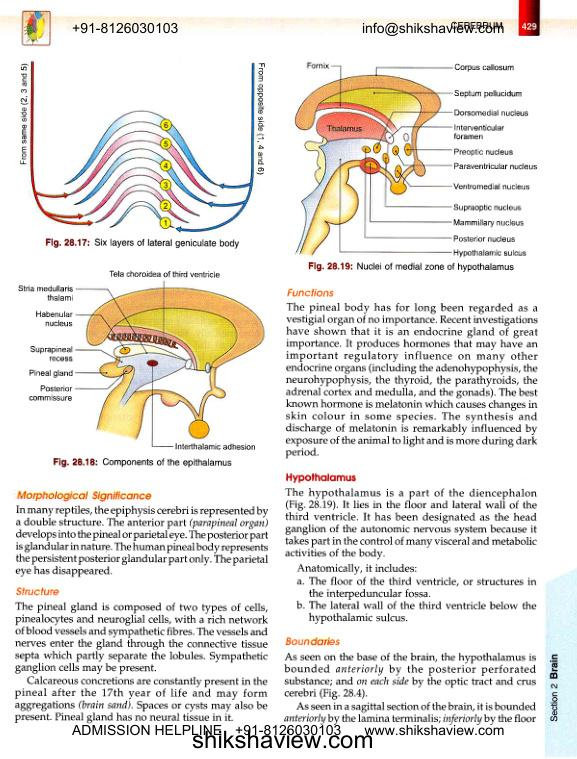caption: (44, 237, 240, 250), (307, 261, 515, 273), (52, 457, 233, 468)
image: (286, 54, 546, 260), (13, 264, 270, 455), (13, 54, 271, 235)
list: (295, 575, 537, 626)
sub-section-heading: (15, 489, 153, 502), (285, 472, 357, 484), (284, 636, 341, 647), (286, 286, 335, 298), (15, 586, 61, 596)
text: (284, 301, 539, 460), (13, 600, 269, 724), (283, 487, 538, 575), (15, 504, 270, 579), (283, 651, 537, 725)
